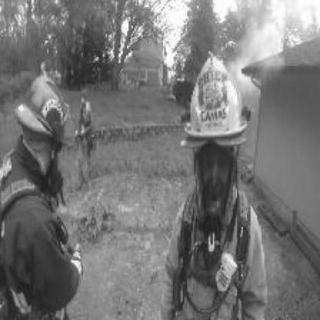other: (208, 256, 234, 290)
